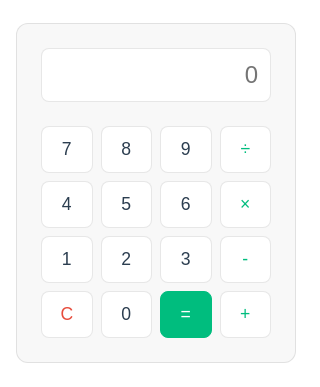
Scenario: CalculatorView › posts the expression and renders the result
This screenshot has width=320, height=387.
In the field with class "display": point(156, 75) [41,48,271,102], type "1+2"
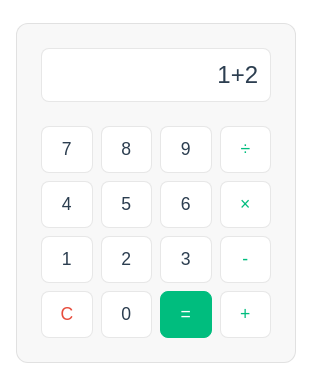
Click the button "=": point(186, 314) [160,291,212,338]
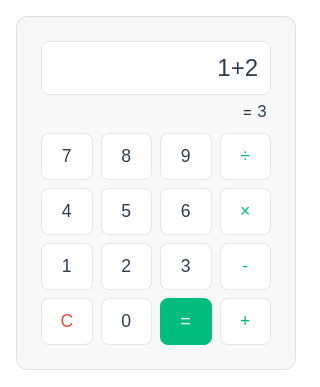
expect the text with class "result" reads "= 3": met, box [242,101,267,121]
